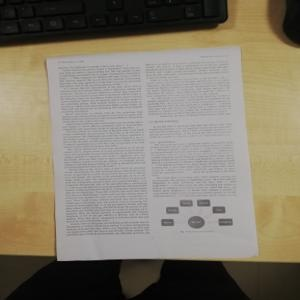diagram: (160, 196, 235, 234)
text: (59, 84, 150, 234), (150, 139, 238, 197), (147, 64, 234, 116), (56, 64, 142, 84), (149, 123, 235, 139)
